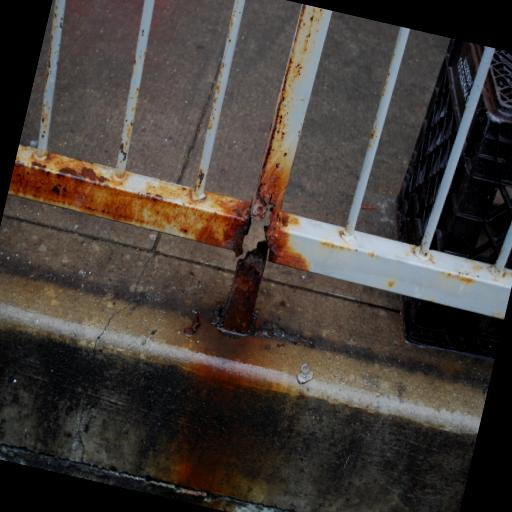segmentation: (8, 145, 250, 256), (251, 4, 331, 220), (217, 241, 268, 335), (265, 211, 306, 268), (198, 169, 205, 183)
